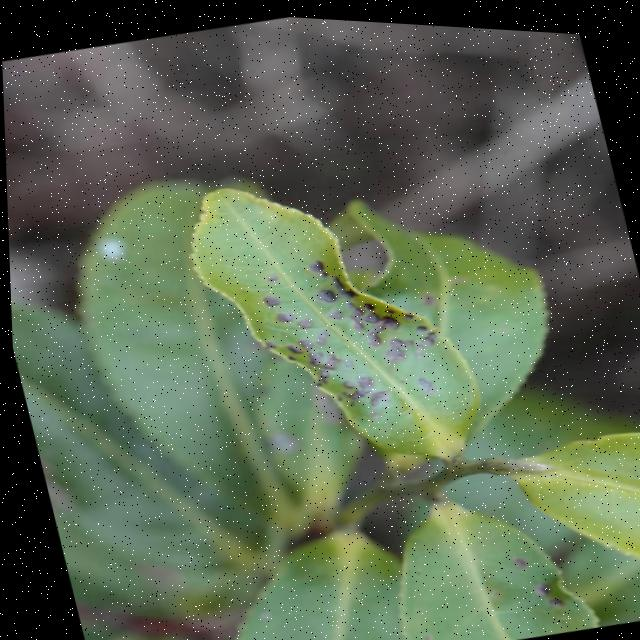Tea red scab: (232, 240, 441, 436)
